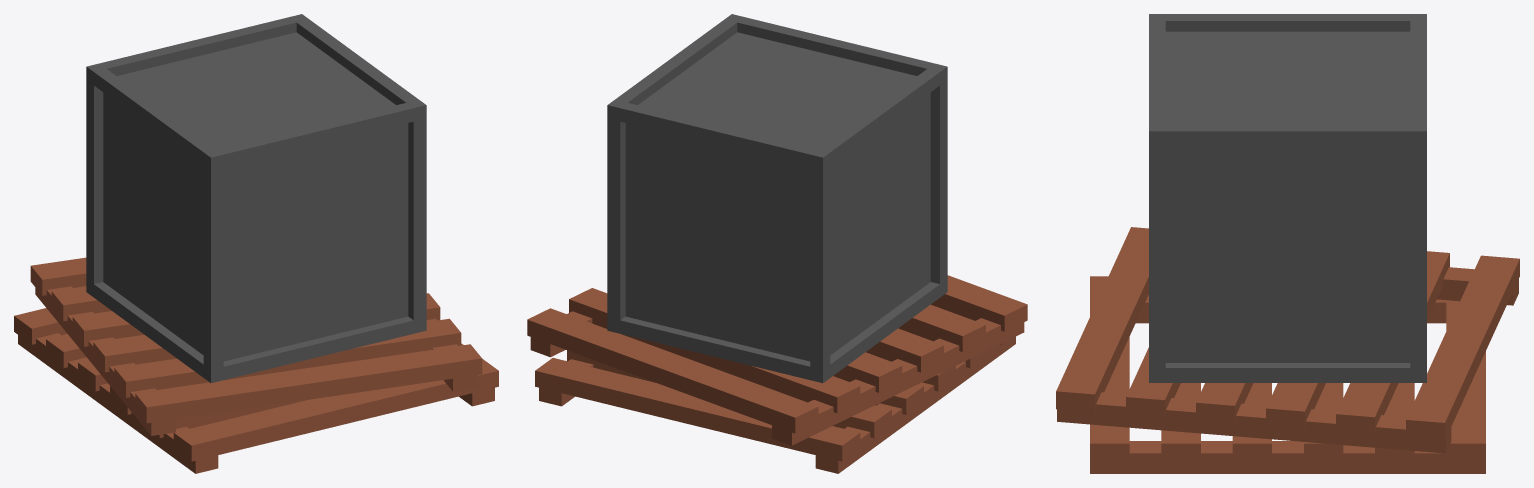
The model's file is shelf-item-1.glb.
3 views of the same model, side by side, from view 1: azimuth 30°, elevation 25°; view 2: azimuth 150°, elevation 25°; view 3: azimuth 270°, elevation 25° (orthographic). The views are drawn at different scales.
Parts seen in each view (by area): view 1: shelf-item-1; view 2: shelf-item-1; view 3: shelf-item-1.
Boxes of the visible parts, x1,y1,x2,y2 form: shelf-item-1: (14,14,498,473); shelf-item-1: (527,14,1027,473); shelf-item-1: (1056,14,1519,473).
Bounding box in the file's own units: 2.34 × 1.78 × 2.34.
